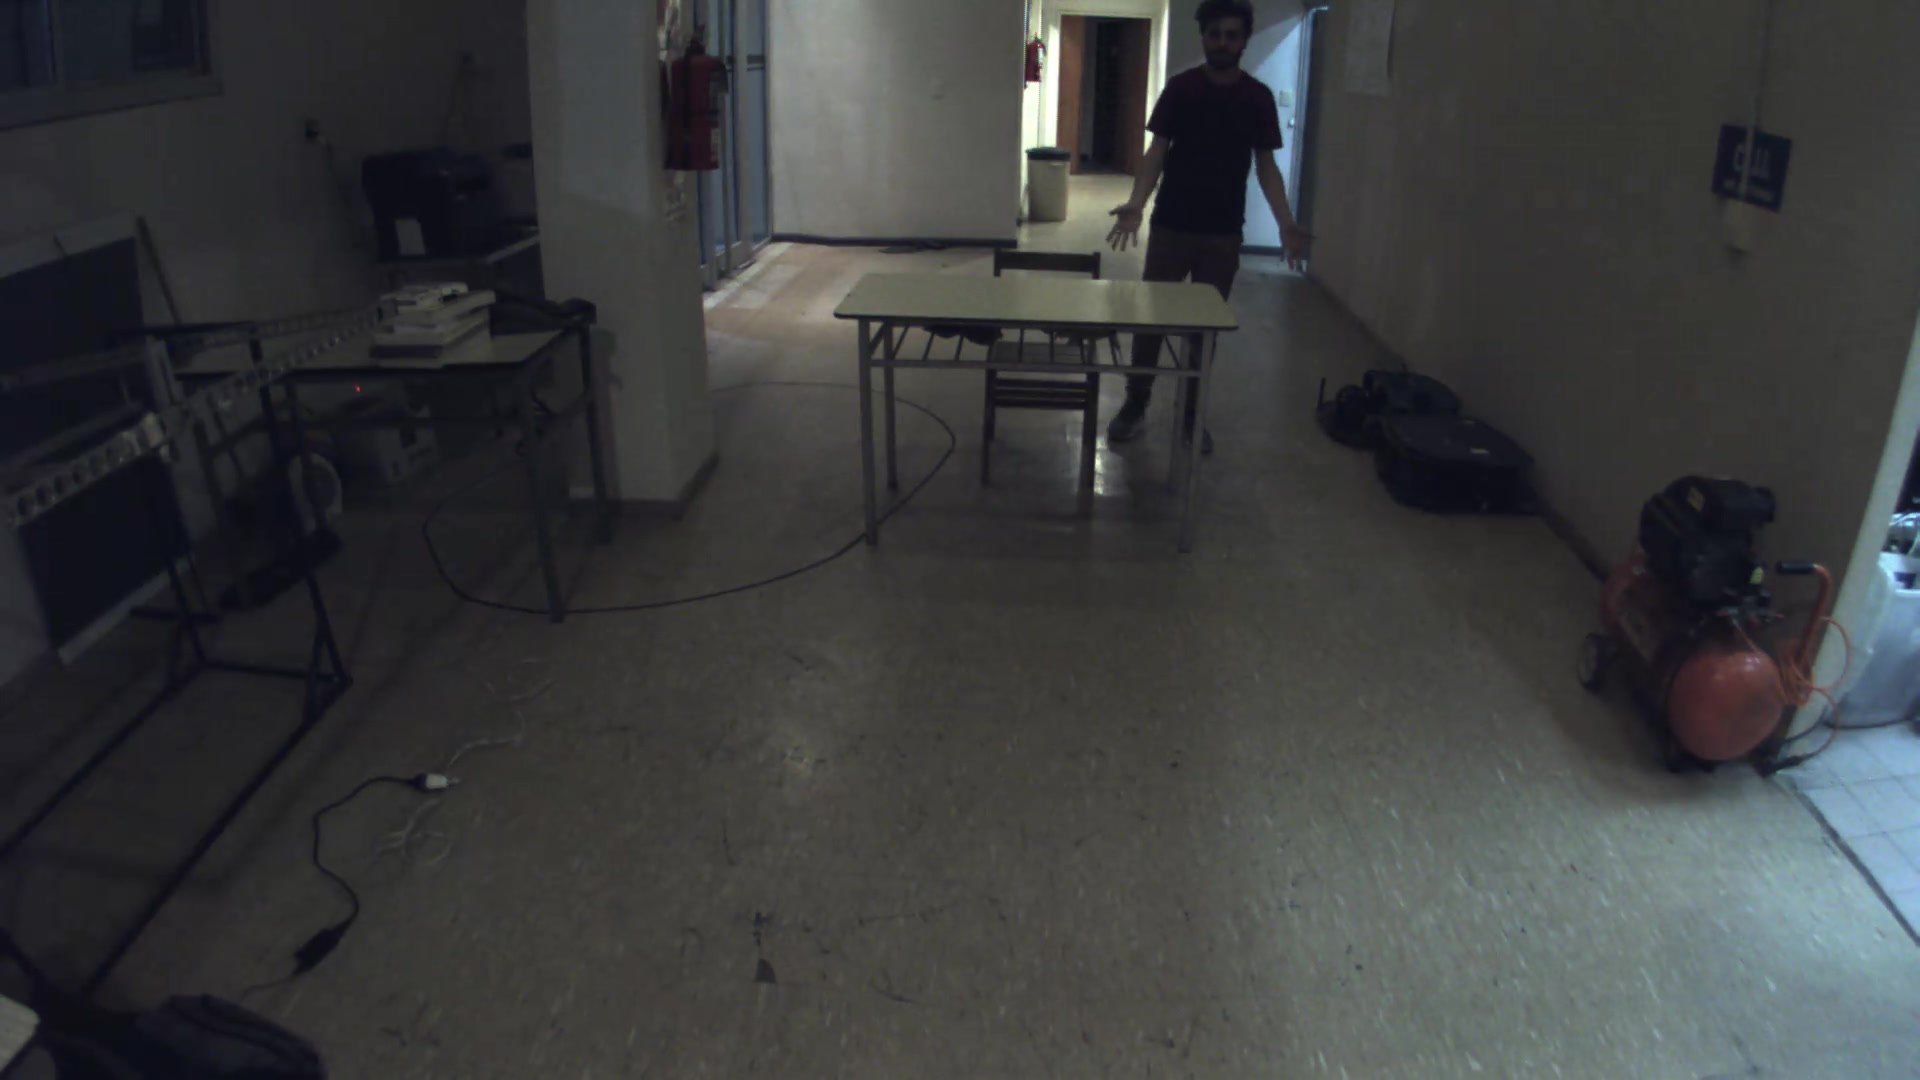hand: (1098, 190, 1155, 262), (1278, 204, 1331, 276)
